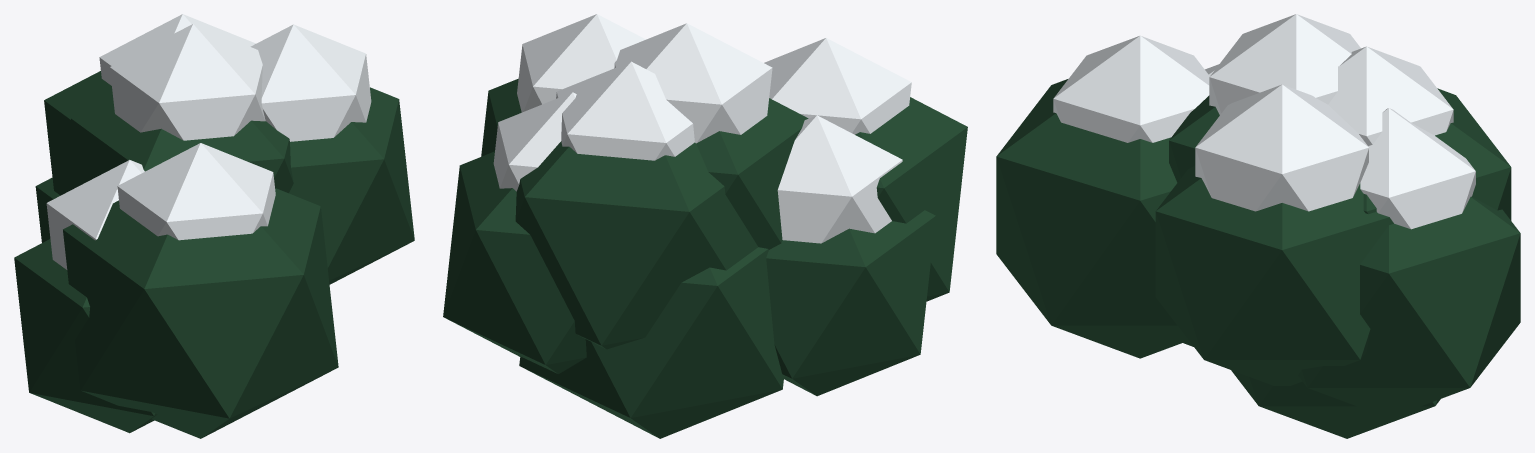
The model's file is buisson_toundra_1.glb.
3 renders of one model, left to right at view 1: azimuth 30°, elevation 25°; view 2: azimuth 150°, elevation 25°; view 3: azimuth 270°, elevation 25°, orthographic. The views are drawn at different scales.
Visible parts, largest first — view 1: arbuste_pin_sombre.002, arbuste_neige.002; view 2: arbuste_pin_sombre.002, arbuste_neige.002; view 3: arbuste_pin_sombre.002, arbuste_neige.002.
Part boxes in pixels (x1,y1,x2,y2): arbuste_pin_sombre.002: [14, 71, 414, 438]; arbuste_neige.002: [46, 14, 371, 269]; arbuste_pin_sombre.002: [443, 78, 967, 438]; arbuste_neige.002: [493, 14, 911, 243]; arbuste_pin_sombre.002: [996, 79, 1520, 438]; arbuste_neige.002: [1053, 14, 1475, 229].
Bounding box in the file's own units: 0.5847 × 0.5487 × 0.6156.
